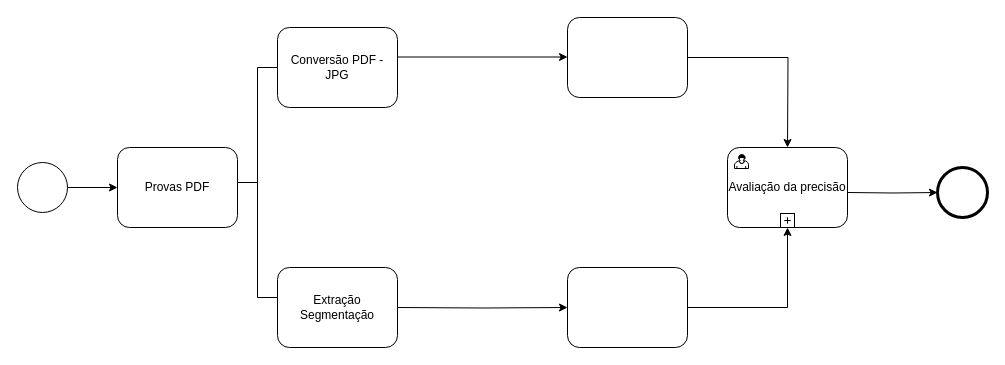
The diagram is 1005 pixels wide and 365 high, and some of its shapes have lost their labels. Here are the shapes that lost their labels. From the top down, the box of each, then its label:
(566, 16, 688, 98): Construção GT
(566, 266, 688, 348): Questões extraídas
